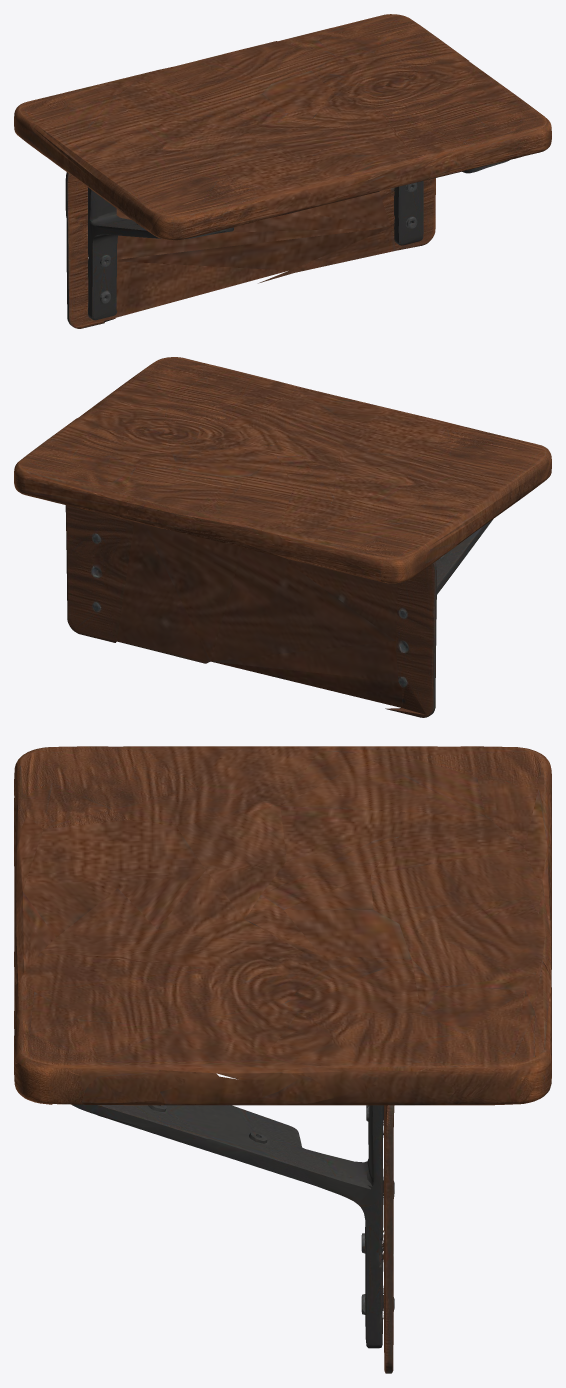
Rendered from e4shelf.glb.
The picture shows the model from 3 angles, top to bottom: view 1: azimuth 30°, elevation 25°; view 2: azimuth 150°, elevation 25°; view 3: azimuth 270°, elevation 25°; orthographic projection. The views are drawn at different scales.
Parts seen in each view (by area): view 1: output_unwrapped; view 2: output_unwrapped; view 3: output_unwrapped.
Part boxes in pixels (bbox=[...]): output_unwrapped: bbox=[14, 14, 551, 328]; output_unwrapped: bbox=[14, 357, 551, 717]; output_unwrapped: bbox=[14, 746, 551, 1373].
Size of the model in its own units: 0.3 by 0.1403 by 0.2093.
Materials: 1 (1 with a texture image).
